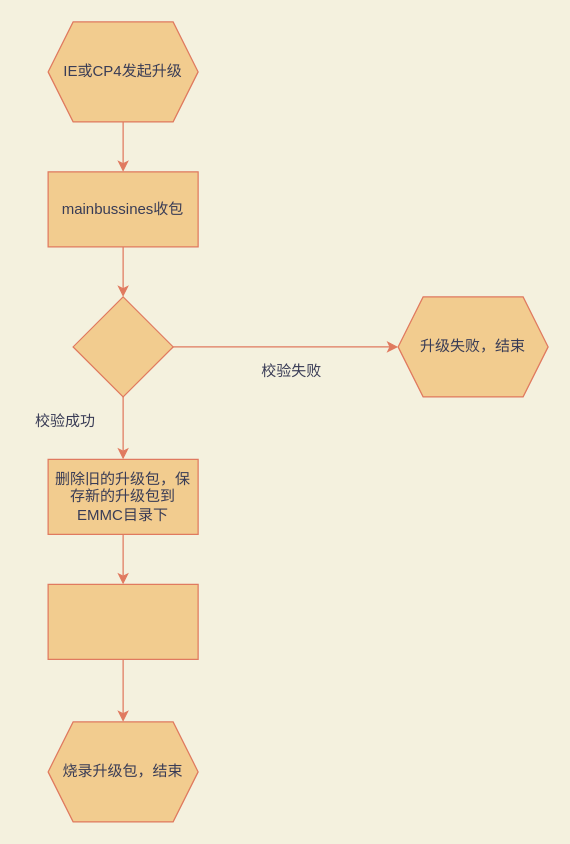
The diagram is 570 pixels wide and 844 high, and some of its shapes have lost their labels. The centre of each missing label's shape, as x and y in pixels:
reboot重启设备，进入升级流程: (x=122, y=621)
校验包头: (x=122, y=346)
